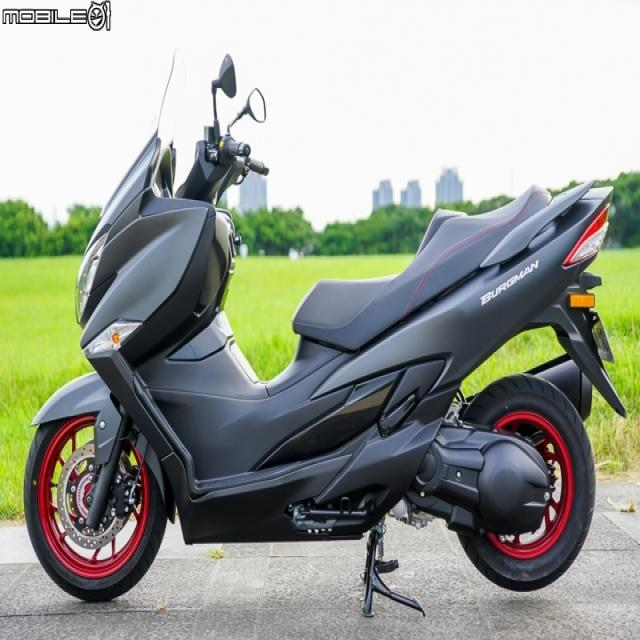Bike: (22, 48, 626, 613)
